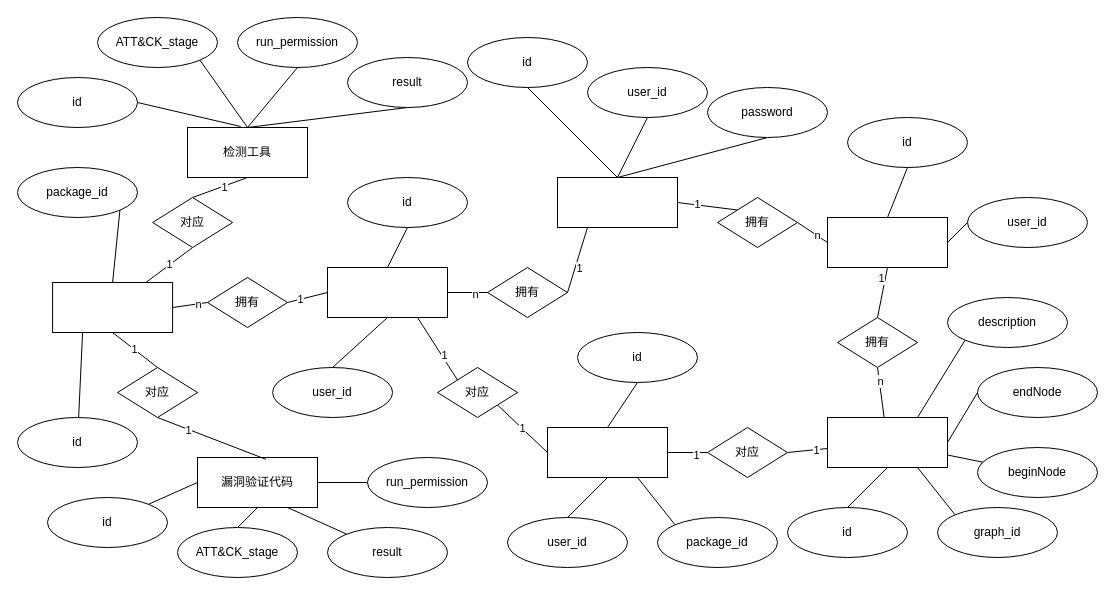
Image size: 1115x595. Some labels were removed from this diagram. Each missing label, with the box of its shape:
检测任务: (546, 426, 668, 478)
检测包: (326, 266, 448, 318)
检测图: (826, 216, 948, 268)
检测图节点关系: (826, 416, 948, 468)
检测指令: (52, 282, 173, 332)
用户: (556, 176, 678, 228)
